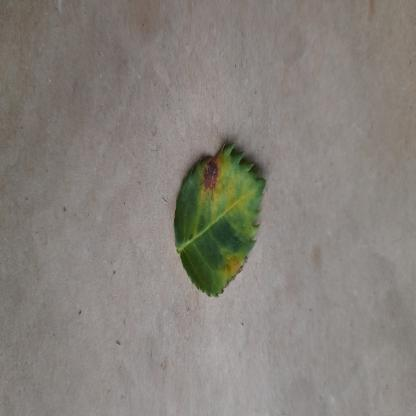black-spot: (171, 140, 267, 294)
